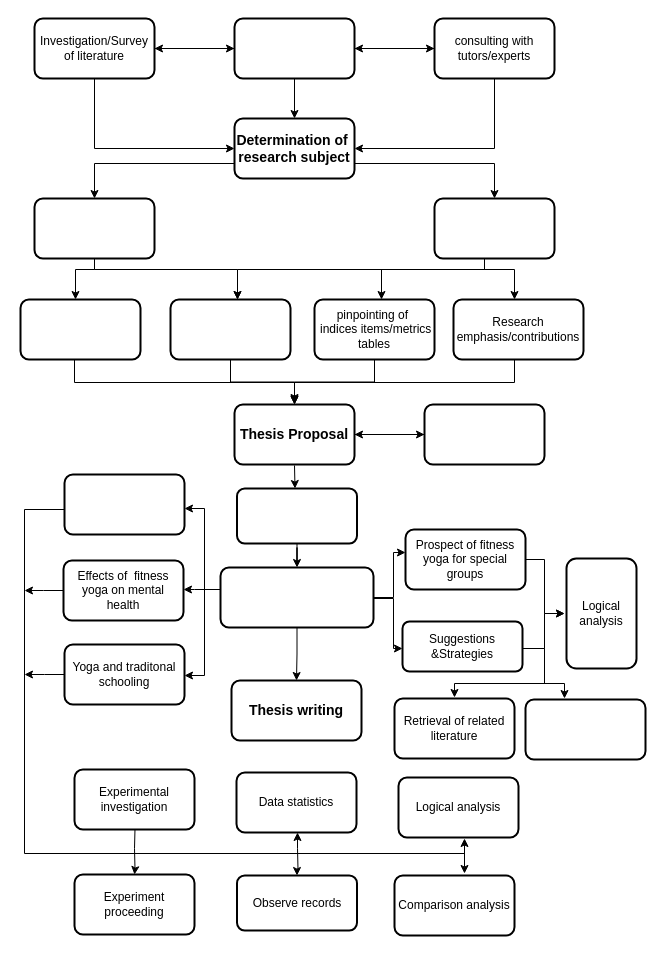
This 664x953 diagram has some shape labels left out. The centre of each missing label's shape, as x and y in pixels:
Adjustment of research design: (x=297, y=515)
consulting with supervisor/advisor: (x=494, y=228)
Data strategy: (x=585, y=729)
Effects of fitness yoga on physical health: (x=124, y=504)
Expert inquiry: (x=484, y=434)
Identification of research direction: (x=294, y=48)
Implementation of research design: (x=296, y=597)
intensive reading of related references: (x=94, y=228)
Research hypothesis: (x=230, y=329)
Research target and value: (x=80, y=329)
